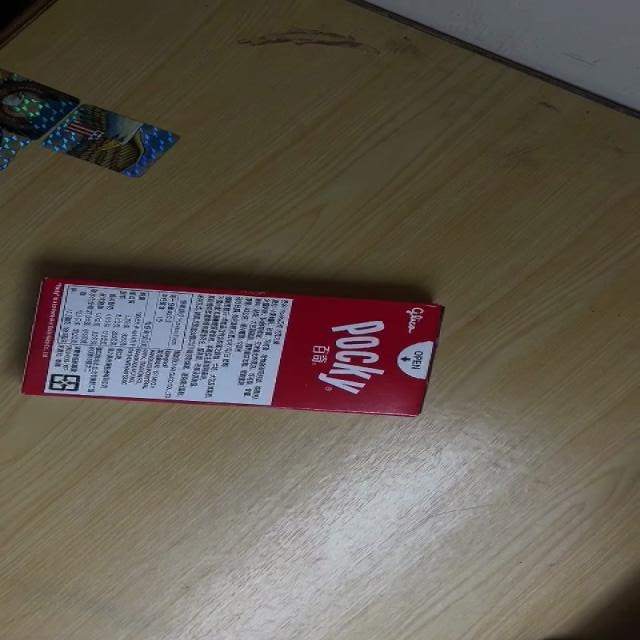Pocky: (22, 278, 446, 416)
